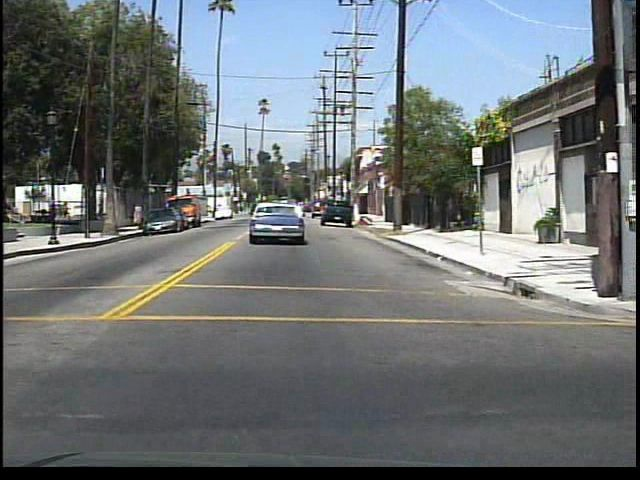person: (95, 196, 109, 222), (60, 198, 73, 224), (133, 201, 145, 229)
